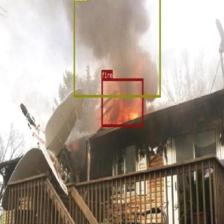fire: (101, 78, 143, 127)
smoke: (73, 0, 160, 97)
